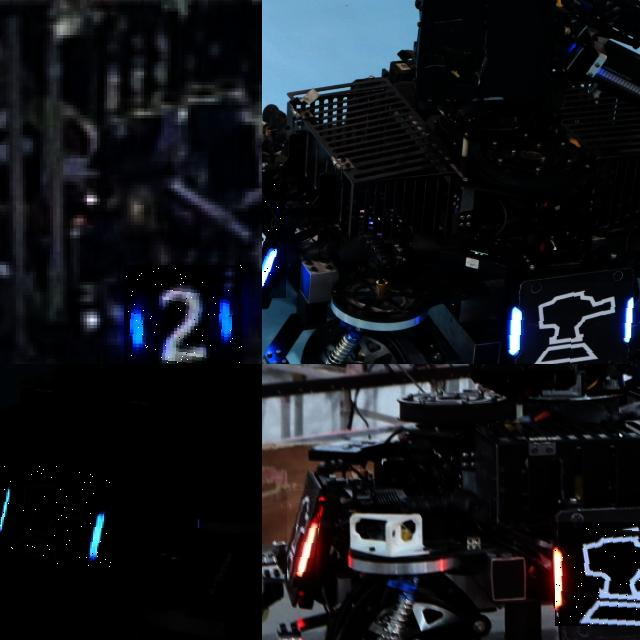B2: (124, 264, 242, 364)
Bs: (0, 462, 111, 567), (506, 282, 640, 364), (262, 182, 286, 298)
Rs: (554, 521, 640, 626), (287, 489, 321, 587)
